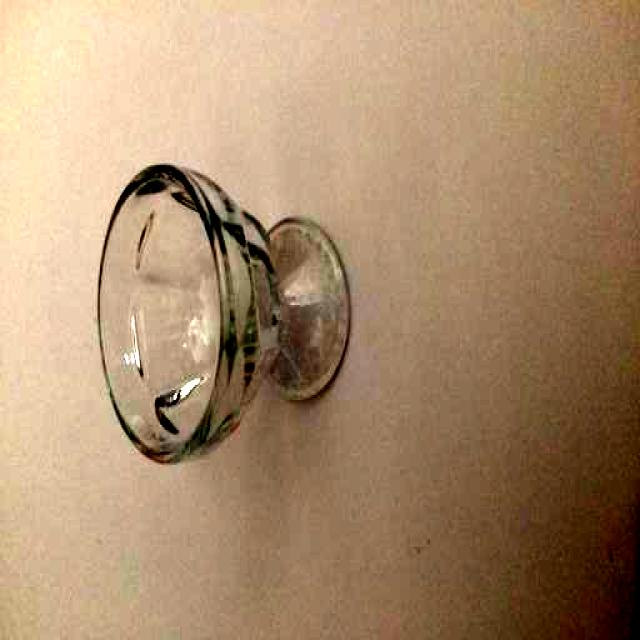Glass: (98, 165, 351, 463)
